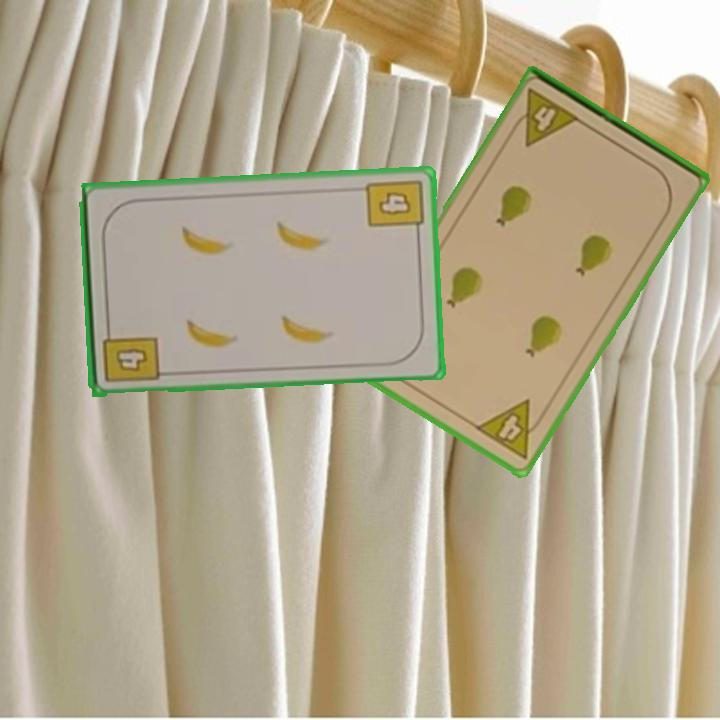4b: (363, 175, 426, 239), (98, 322, 161, 385)
4p: (471, 396, 550, 462), (506, 85, 583, 150)
